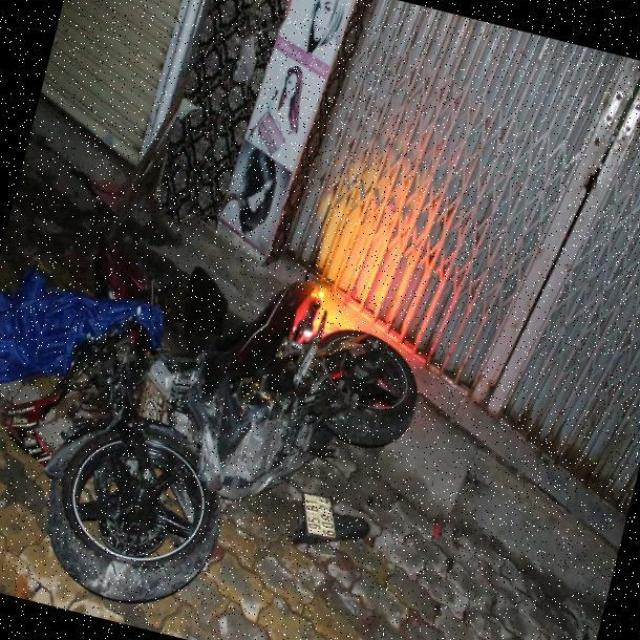accident: (0, 176, 460, 640)
